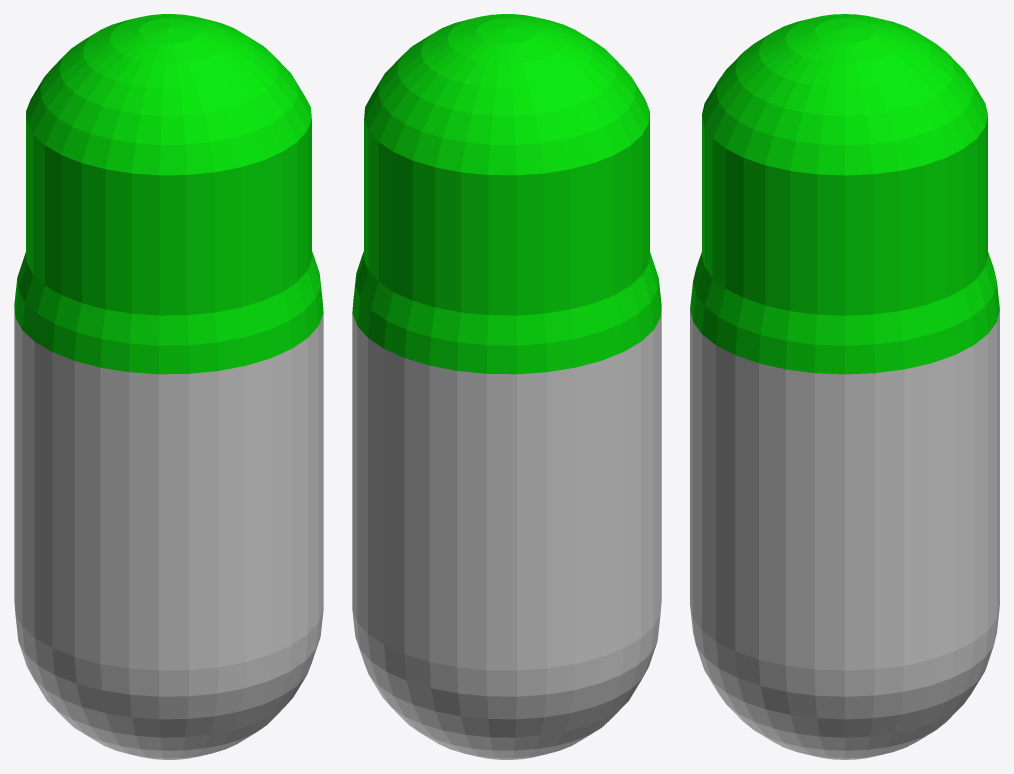
File: AspirinaA.fbx
3 renders of one model, left to right at view 1: azimuth 30°, elevation 25°; view 2: azimuth 150°, elevation 25°; view 3: azimuth 270°, elevation 25°, orthographic.
Visible parts, largest first — view 1: Sphere; view 2: Sphere; view 3: Sphere.
Boxes of the visible parts, bbox=[...] form: Sphere: bbox=[14, 14, 323, 759]; Sphere: bbox=[352, 14, 661, 759]; Sphere: bbox=[690, 14, 999, 759].
Bounding box in the file's own units: 2 × 5.11 × 2.
